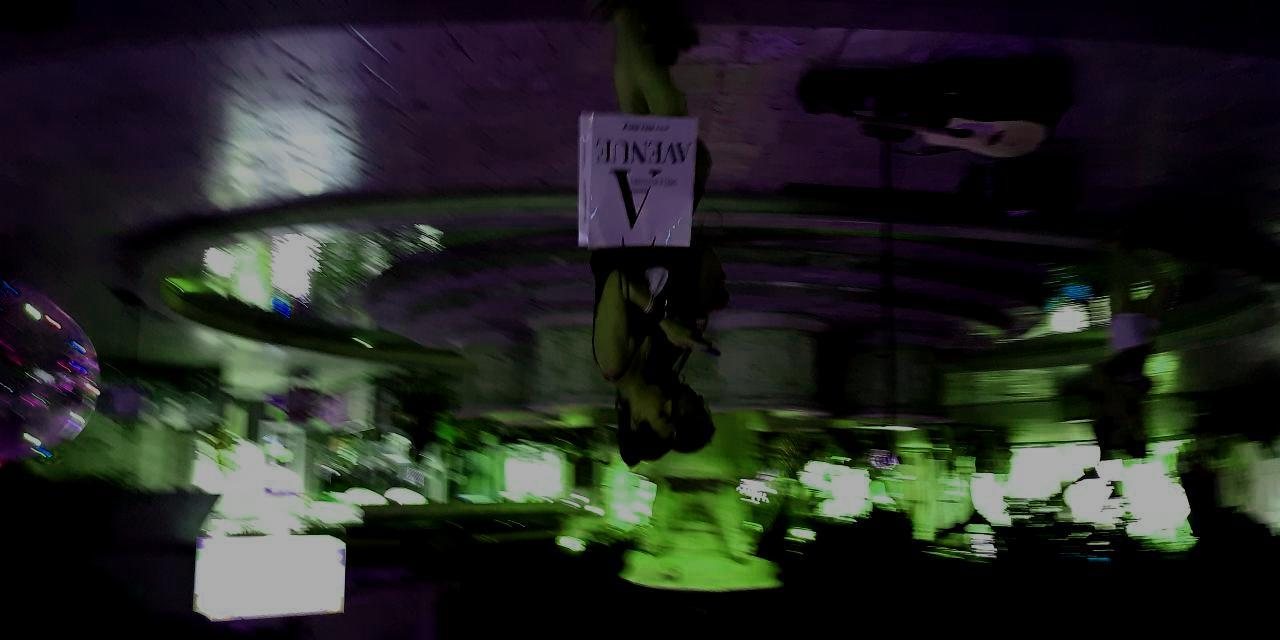Liontaria: (447, 329, 943, 591)
